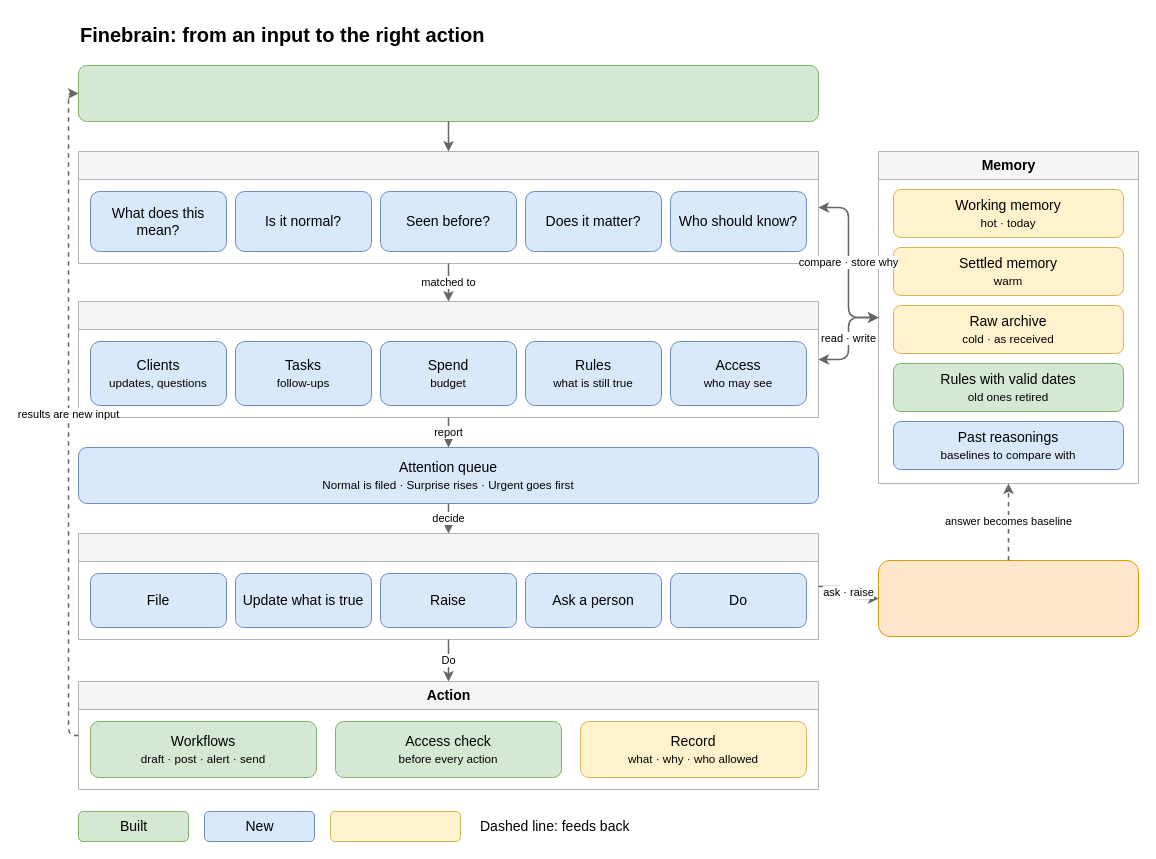
The diagram is 1156 pixels wide and 859 high, and some of its shapes have lost their labels. The shapes that lost their labels are listed below. From the top down, each one's box as (x1, y1, x2, y2) in pixels, then its label:
(78, 64, 818, 122): Inputs and intake Slack · WhatsApp · meetings · documents · invoices
(78, 150, 818, 264): Reasoning layer: five questions, and the why is stored
(78, 300, 818, 418): Specialist agents: each owns one area and also reasons
(78, 532, 818, 640): Five outcomes
(878, 560, 1138, 636): People approve · hard calls · train · test
(330, 810, 460, 842): Not checked
